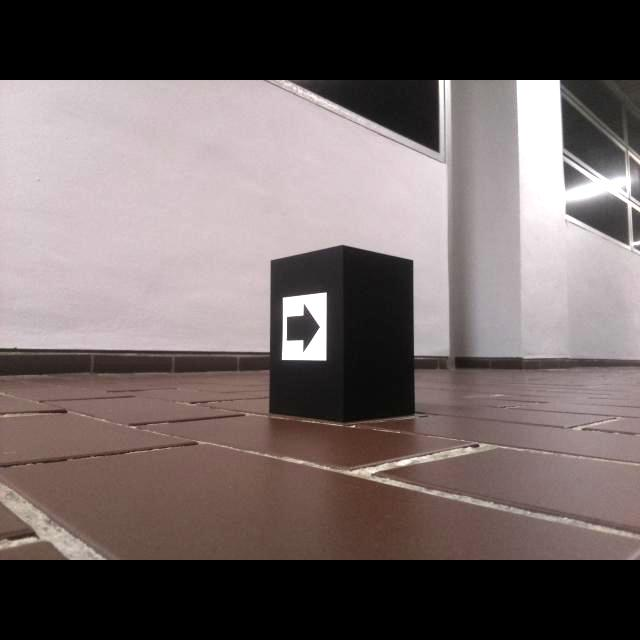RIGHT: (287, 303, 318, 353)
